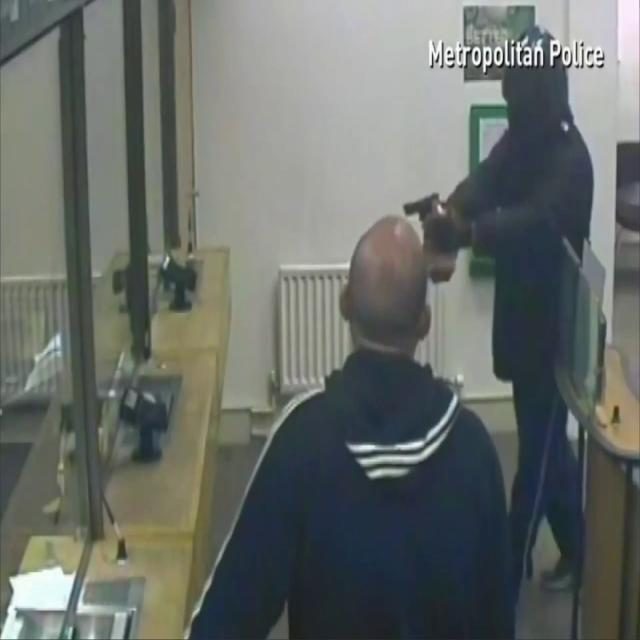Gun: (399, 188, 465, 242)
